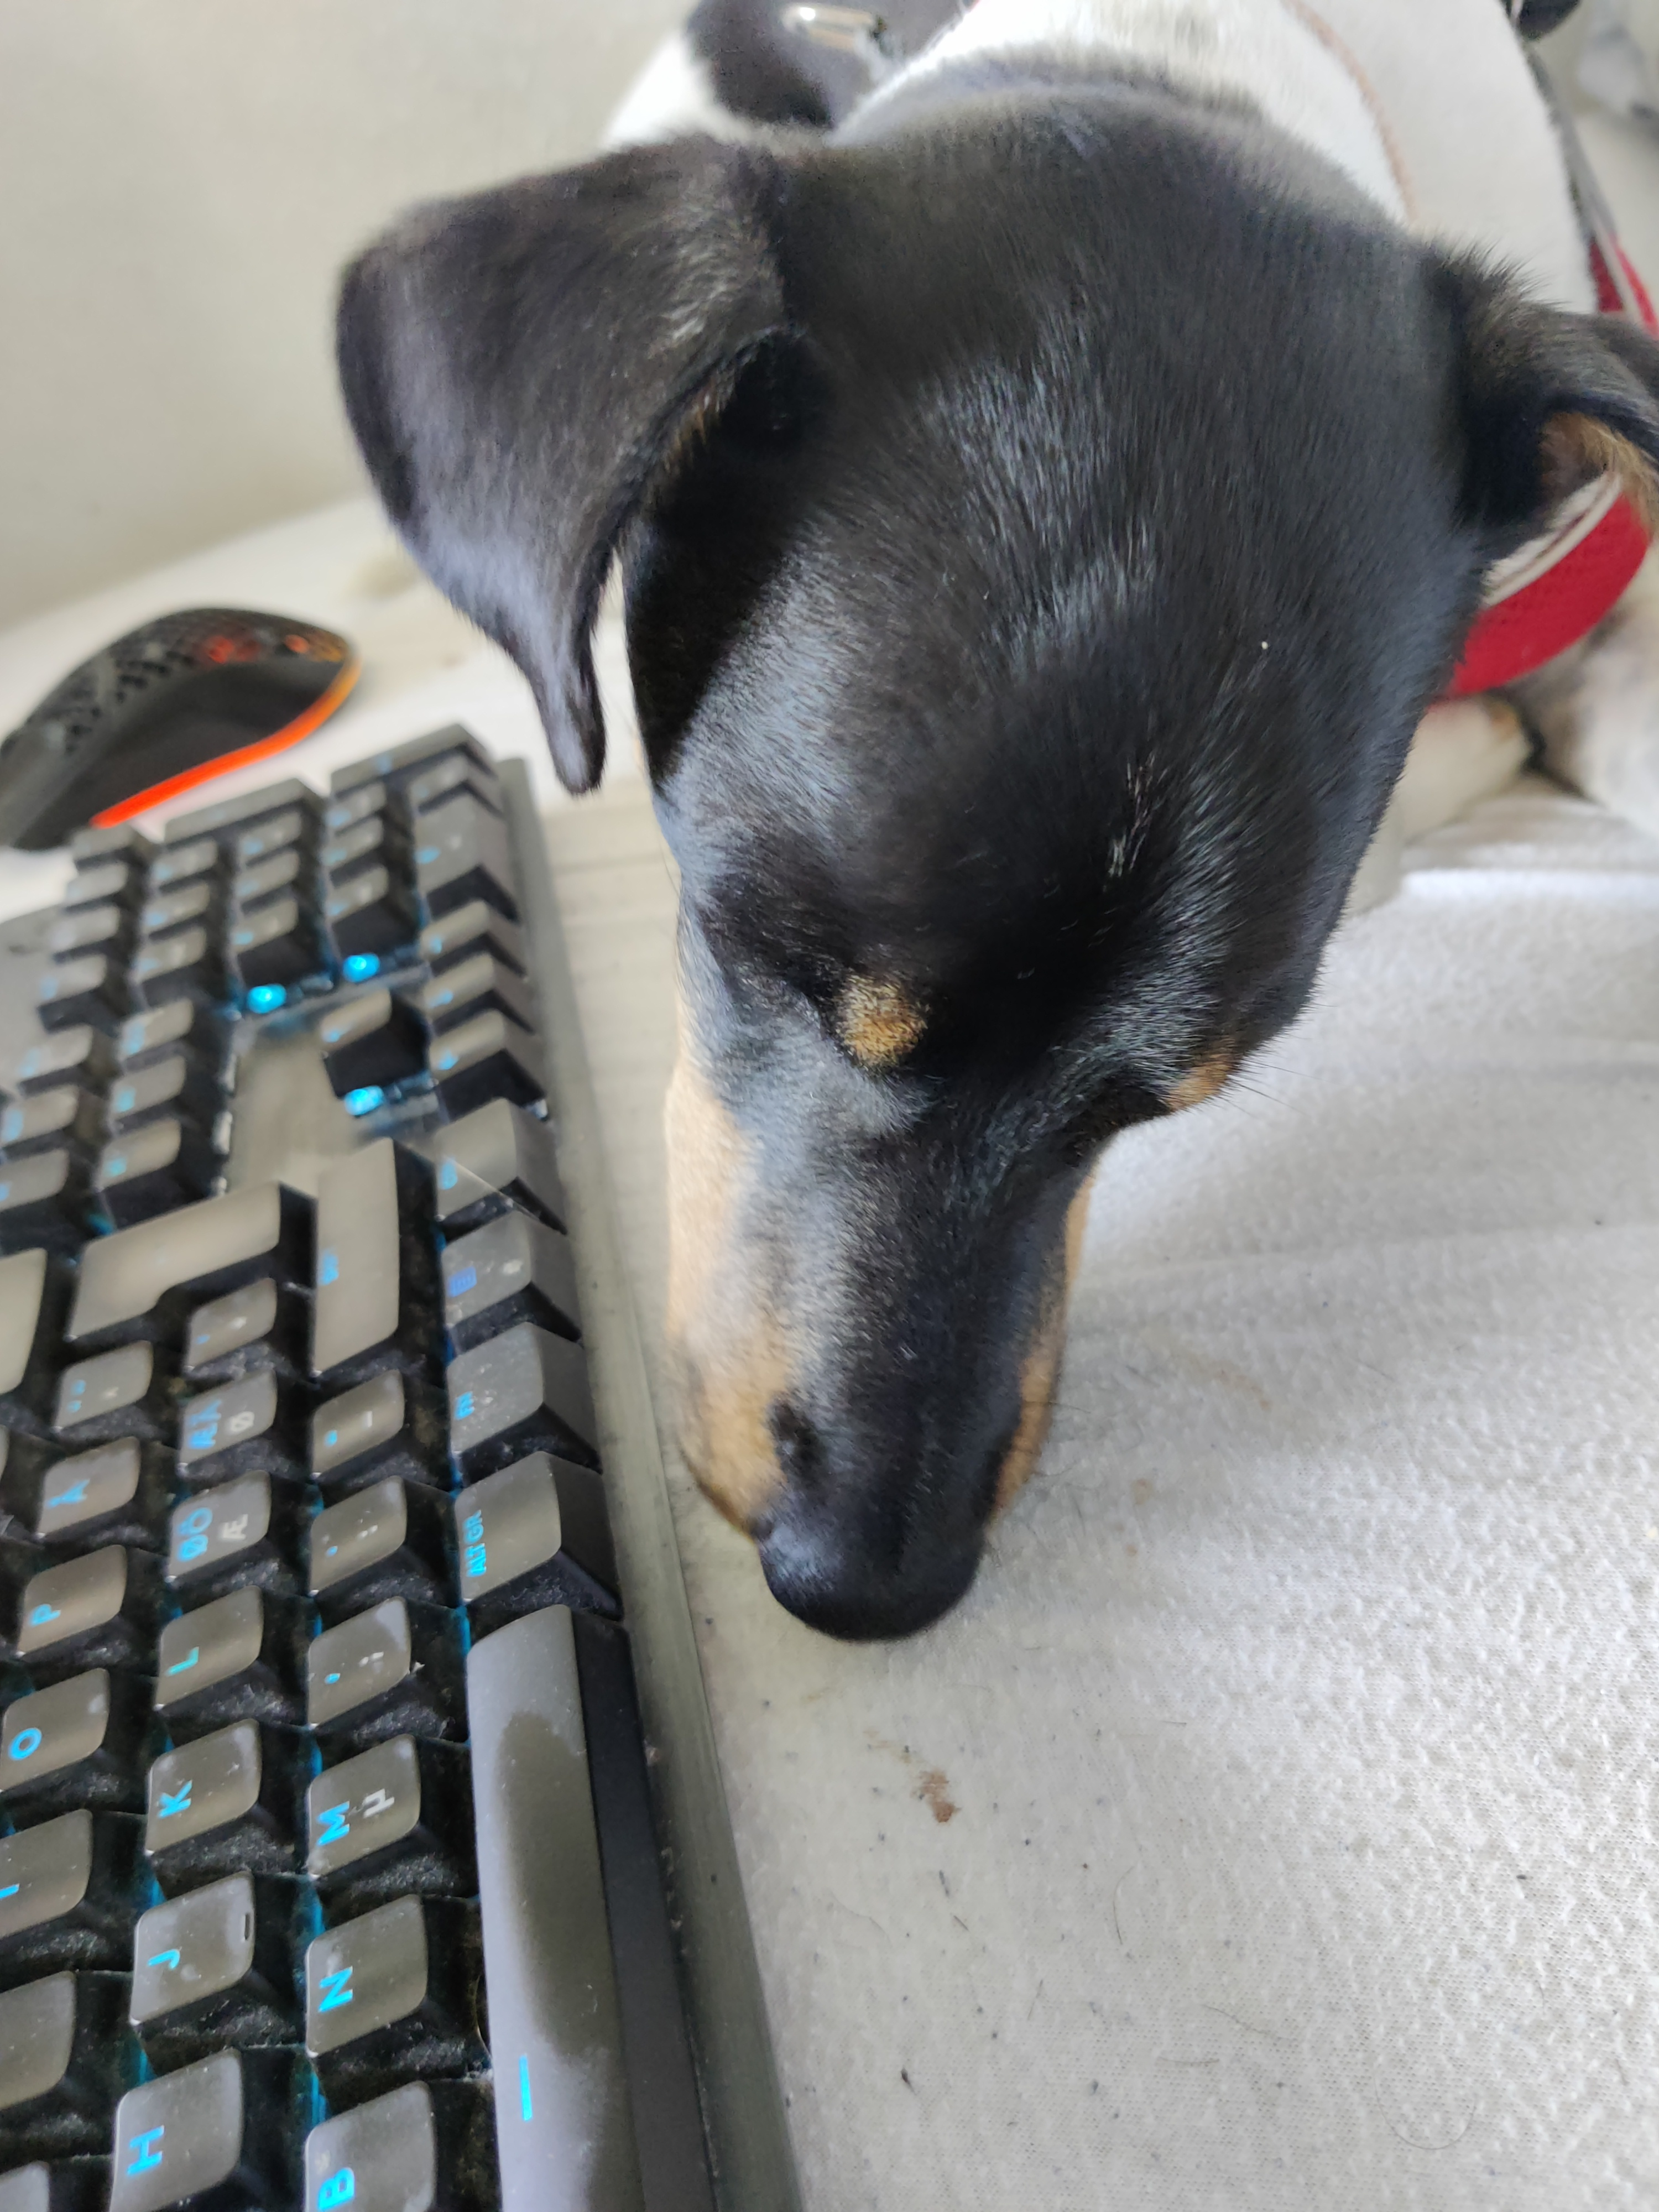Dog: (291, 0, 1659, 1648)
